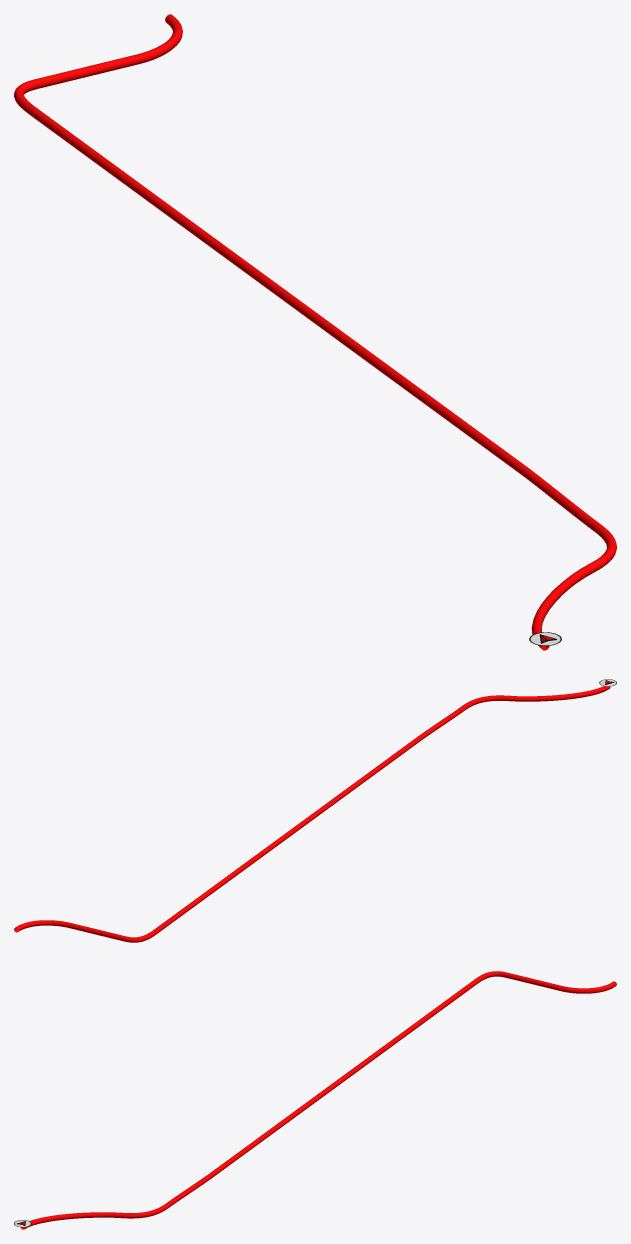
The model's file is route_437c2794-1b19-40b9-80ad-0ea1eff990ba_de_single.glb.
3 renders of one model, top to bottom at view 1: azimuth 30°, elevation 25°; view 2: azimuth 150°, elevation 25°; view 3: azimuth 330°, elevation 25°, orthographic. The views are drawn at different scales.
Parts seen in each view (by area): view 1: B8, Abteil 1; view 2: B8, Abteil 1; view 3: B8, Abteil 1.
Part boxes in pixels (x1=…): B8, Abteil 1: x1=14, y1=14, x2=616, y2=650; B8, Abteil 1: x1=14, y1=686, x2=610, y2=942; B8, Abteil 1: x1=20, y1=971, x2=616, y2=1229.
Size of the model in its own units: 3.47 by 0.1062 by 11.81.
